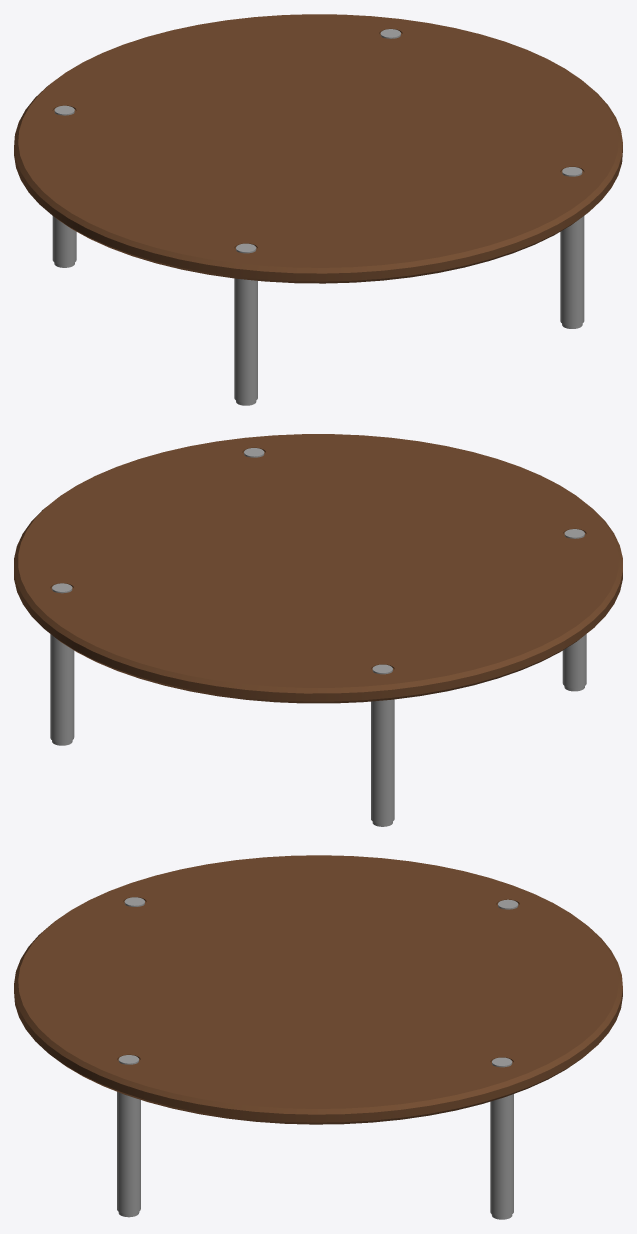
The model's file is table.fbx.
The picture shows the model from 3 angles, top to bottom: view 1: azimuth 30°, elevation 25°; view 2: azimuth 150°, elevation 25°; view 3: azimuth 270°, elevation 25°; orthographic projection.
Parts seen in each view (by area): view 1: table; view 2: table; view 3: table.
Part boxes in pixels (x1,y1,x2,y2): table: [14, 14, 622, 405]; table: [14, 434, 622, 826]; table: [14, 855, 622, 1219].
Size of the model in its own units: 178 by 49.57 by 178.
